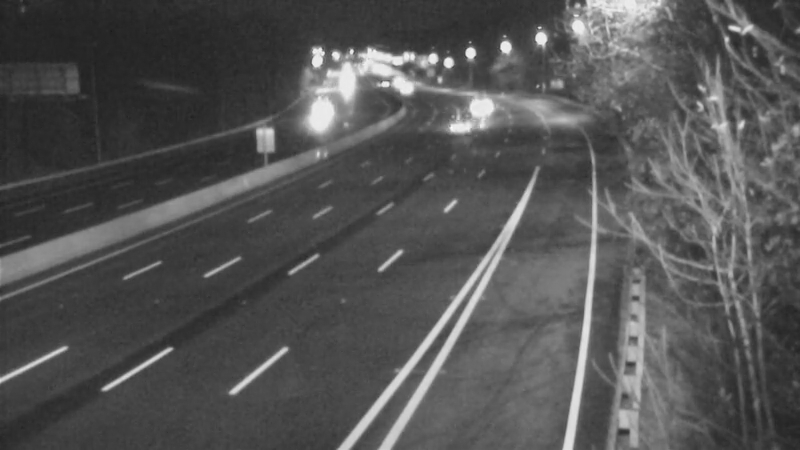vehicle: (382, 64, 432, 114), (448, 77, 498, 127), (435, 103, 485, 153), (294, 99, 344, 149)
